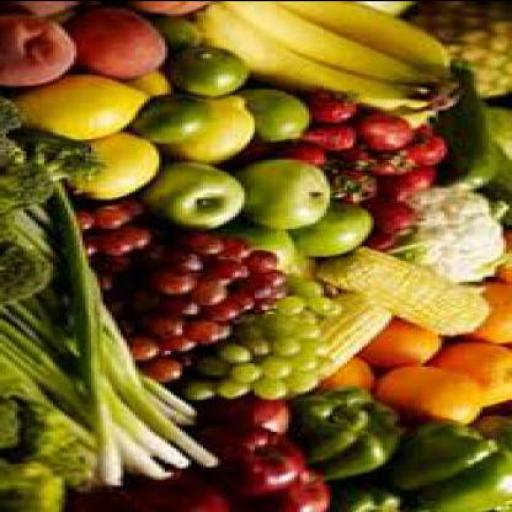biodegradable: (2, 321, 194, 470), (197, 2, 459, 111), (6, 286, 203, 424), (50, 186, 124, 488), (3, 346, 171, 479), (230, 2, 458, 92), (318, 248, 494, 338), (106, 337, 226, 468), (280, 2, 456, 78), (379, 420, 511, 510), (288, 386, 406, 480), (2, 385, 106, 484), (406, 1, 511, 97), (408, 191, 510, 289), (15, 76, 156, 143), (440, 66, 510, 194), (191, 427, 309, 496), (56, 132, 164, 202), (70, 9, 174, 80), (147, 162, 251, 232), (318, 293, 400, 381), (73, 469, 240, 511), (238, 160, 336, 231), (380, 365, 492, 426), (168, 95, 262, 166), (18, 130, 111, 196), (426, 341, 511, 410), (3, 14, 79, 87), (3, 142, 56, 240), (359, 319, 447, 371), (168, 47, 254, 99), (3, 230, 59, 309), (297, 205, 380, 258), (241, 90, 315, 143), (244, 469, 337, 511), (453, 282, 511, 347), (191, 398, 294, 434), (136, 98, 215, 144), (2, 460, 72, 511), (328, 478, 420, 510), (368, 201, 427, 235), (362, 115, 418, 150), (153, 18, 206, 52), (306, 92, 365, 122), (397, 102, 456, 131), (482, 232, 511, 290), (330, 359, 379, 393), (409, 131, 454, 166), (309, 123, 362, 150), (392, 166, 441, 195), (132, 1, 224, 16), (130, 71, 179, 99), (335, 172, 380, 201), (2, 1, 88, 16), (94, 228, 141, 254), (336, 144, 378, 172), (96, 204, 138, 232), (194, 282, 236, 310), (286, 148, 338, 170), (188, 321, 233, 346), (376, 178, 424, 200), (371, 152, 418, 174), (180, 232, 226, 254), (239, 327, 273, 356), (156, 276, 203, 296), (147, 314, 189, 336), (144, 360, 186, 382), (3, 99, 27, 136), (138, 240, 173, 265), (268, 310, 300, 337), (400, 235, 430, 263), (209, 260, 244, 284), (359, 1, 415, 16), (206, 300, 244, 322), (250, 249, 282, 274), (168, 254, 206, 275), (235, 281, 277, 300), (162, 300, 206, 318), (162, 330, 197, 352), (265, 357, 300, 378), (244, 146, 289, 162), (92, 270, 126, 291), (289, 373, 323, 394), (221, 344, 255, 364), (189, 380, 223, 400), (296, 315, 324, 339), (374, 233, 409, 252), (200, 358, 232, 378), (132, 293, 162, 314), (292, 282, 326, 300), (310, 298, 344, 316), (224, 380, 256, 399), (135, 338, 162, 360), (262, 380, 291, 400), (226, 240, 254, 260), (254, 270, 286, 286), (274, 341, 306, 357), (282, 296, 310, 314), (106, 256, 135, 273), (235, 366, 265, 382), (80, 214, 100, 233), (233, 294, 256, 310), (306, 342, 329, 358), (297, 358, 321, 373), (126, 205, 153, 217), (419, 124, 438, 136), (324, 360, 338, 372)
